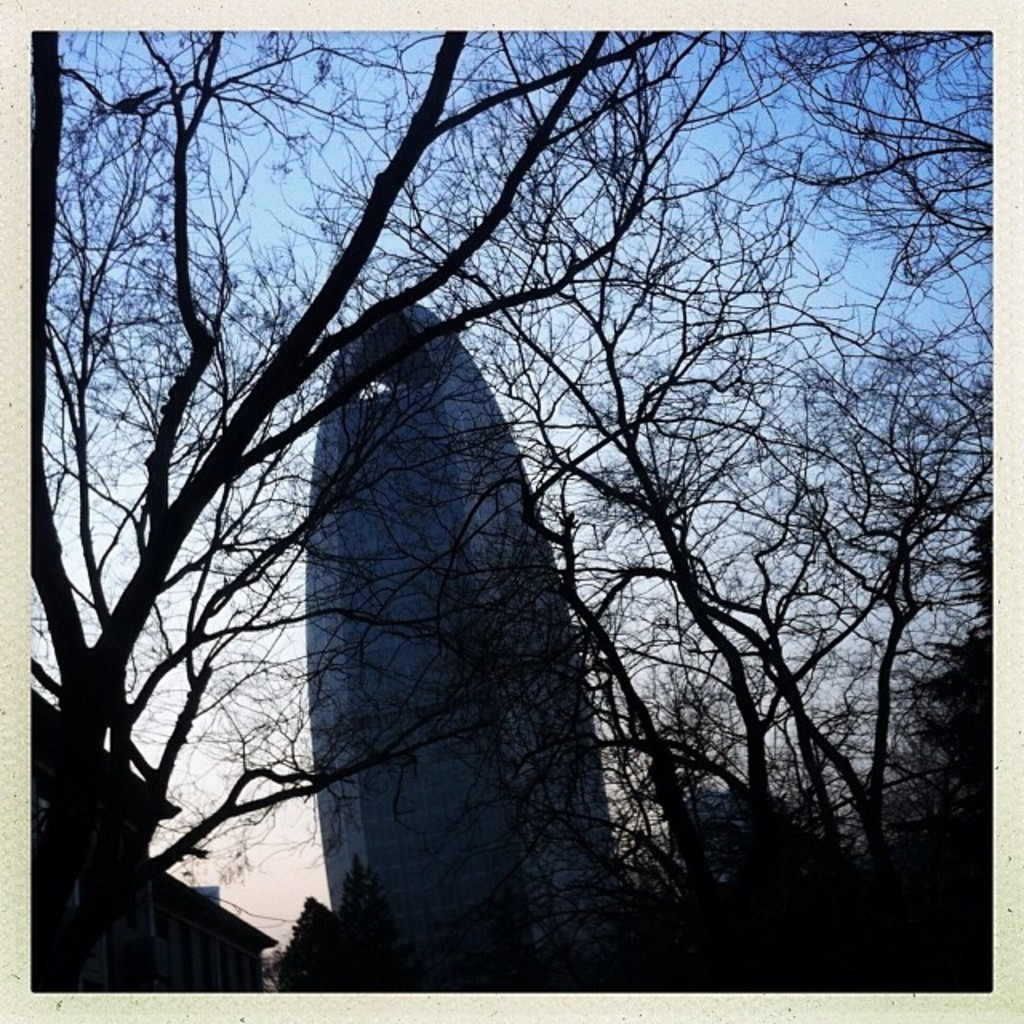Tree: (27, 27, 972, 1024)
